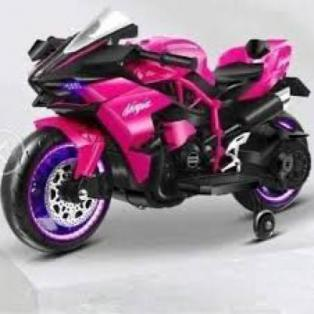Motocicleta: (1, 5, 312, 255)
